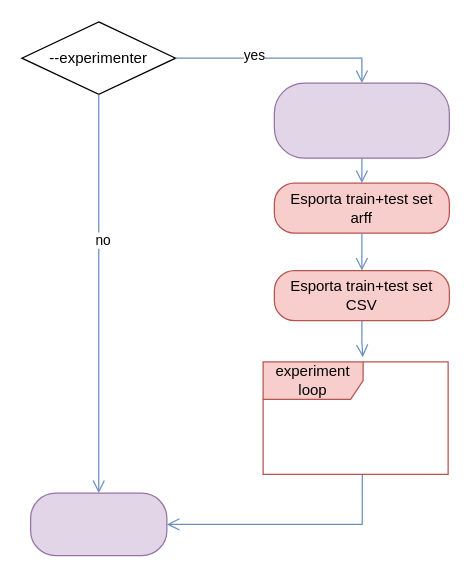
This 471x578 diagram has some shape labels left out. Here are the shapes that lost their labels. From the top down, the centre of each, then its label:
At point (361, 120): "Aggiunge test set ad ogni train set di D".
At point (98, 524): "Svuota D".
